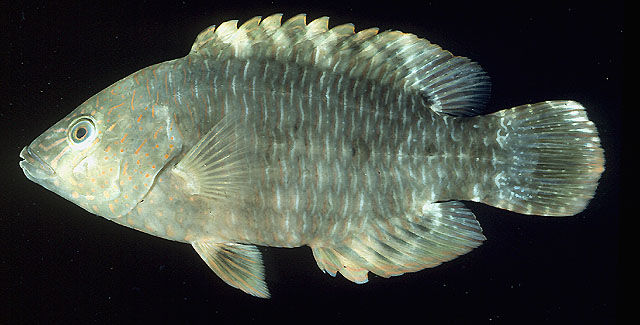fish: (21, 14, 605, 300)
